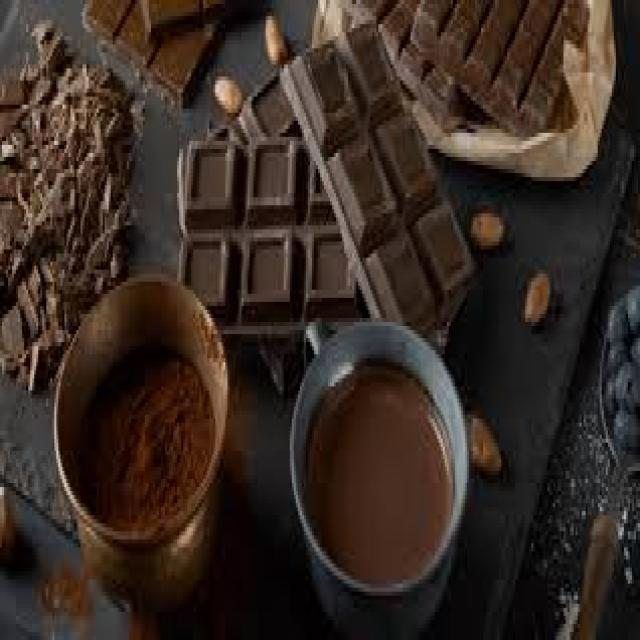Chocolate: (178, 22, 474, 347), (0, 22, 136, 391), (304, 349, 457, 589), (346, 0, 592, 146), (74, 0, 235, 112)
